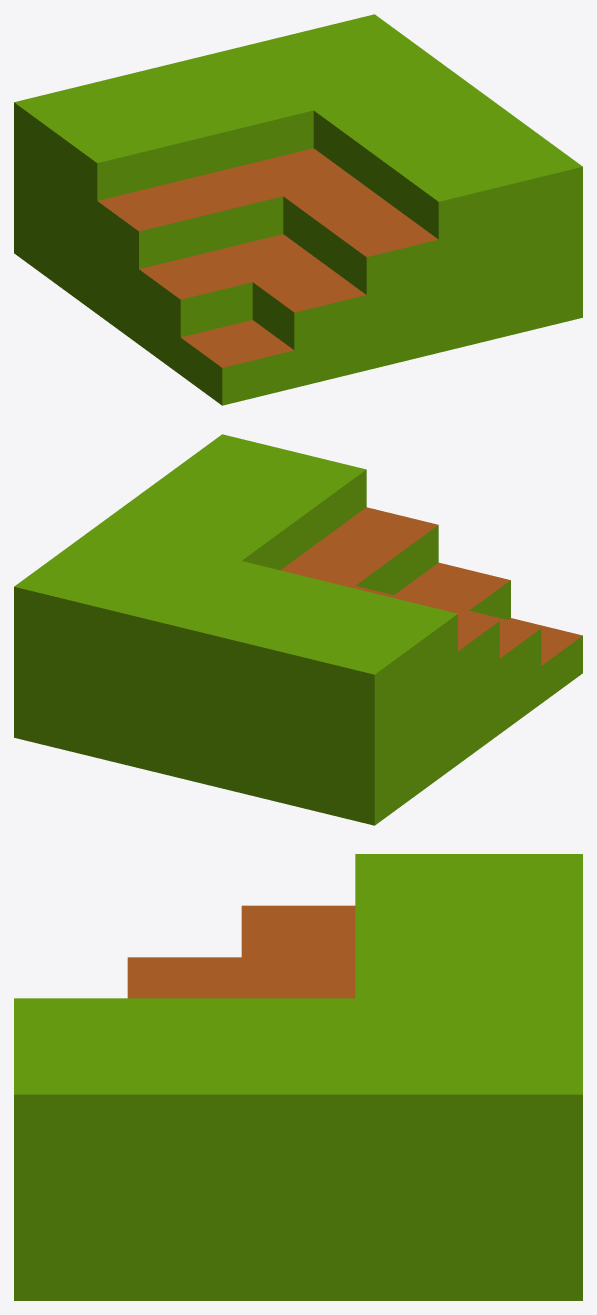
Rendered from TileGround_33.fbx.
The picture shows the model from 3 angles, top to bottom: view 1: azimuth 30°, elevation 25°; view 2: azimuth 150°, elevation 25°; view 3: azimuth 270°, elevation 25°; orthographic projection. The views are drawn at different scales.
Visible parts, largest first — view 1: TileGround_33; view 2: TileGround_33; view 3: TileGround_33.
Boxes of the visible parts, x1,y1,x2,y2 form: TileGround_33: [14, 14, 582, 405]; TileGround_33: [14, 434, 582, 825]; TileGround_33: [14, 854, 582, 1300].
Bounding box in the file's own units: 500 × 200 × 500.
